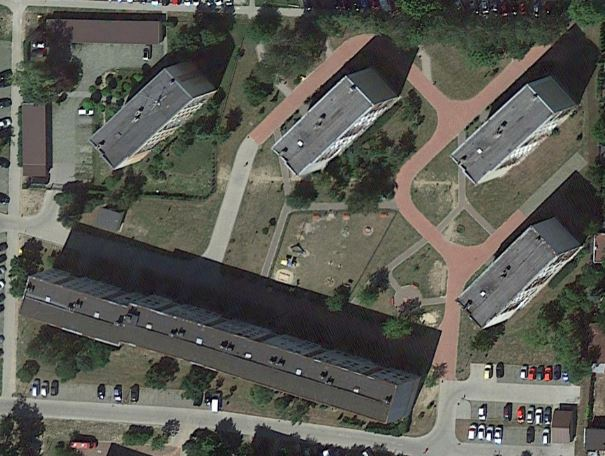block of flats: (14, 260, 426, 430), (263, 57, 408, 187), (79, 52, 221, 181), (445, 70, 584, 191), (452, 213, 585, 337)
garage: (34, 8, 181, 54), (7, 88, 56, 194)
